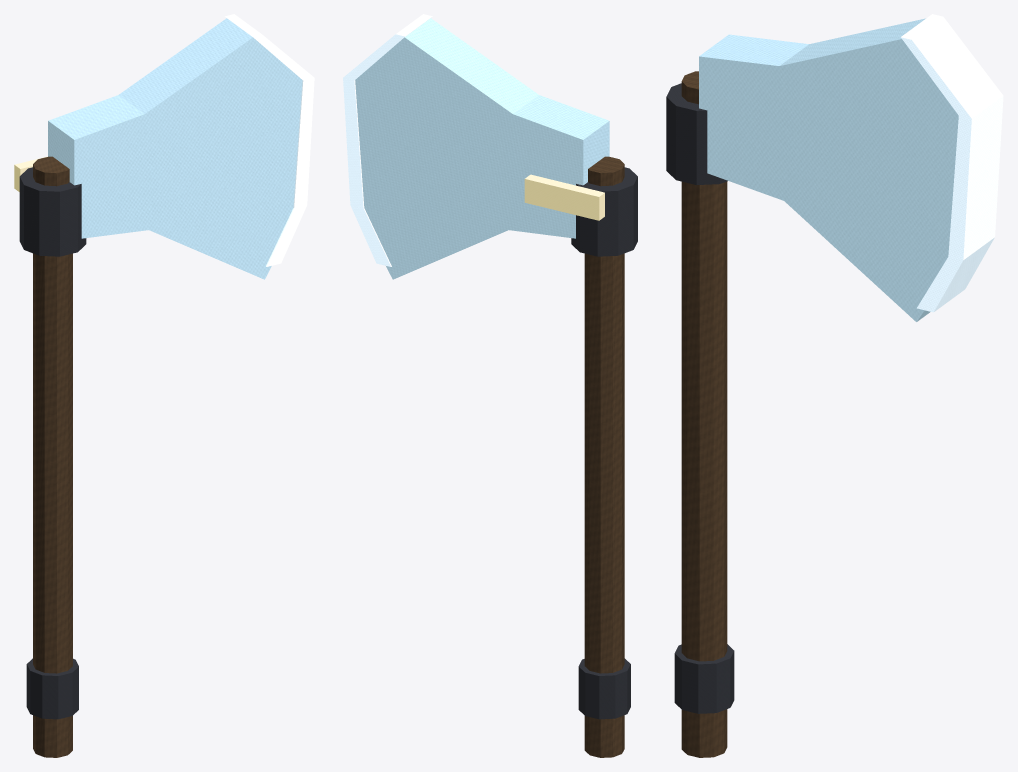
The model's file is crystal-weapon-axe.glb.
3 renders of one model, left to right at view 1: azimuth 30°, elevation 25°; view 2: azimuth 150°, elevation 25°; view 3: azimuth 330°, elevation 25°, orthographic. The views are drawn at different scales.
Parts seen in each view (by area): view 1: axe-head, haft, head-band, edge, lower-band; view 2: axe-head, haft, head-band, edge, lower-band, head-inlay; view 3: axe-head, haft, edge, head-band, lower-band.
Part boxes in pixels (x1,y1,x2,y2): axe-head: (48,18,302,279); haft: (33,156,72,757); head-band: (19,167,86,256); edge: (225,14,314,266); lower-band: (26,658,78,719); axe-head: (355,18,609,279); haft: (584,156,624,757); head-band: (571,167,637,256); edge: (343,14,432,266); lower-band: (578,658,630,719); head-inlay: (524,174,604,220); axe-head: (699,18,958,321); haft: (681,71,727,757); edge: (901,14,1003,312); head-band: (666,83,727,185); lower-band: (674,644,734,713).
Size of the model in its own units: 0.5016 by 1.17 by 0.1193.
Materials: 5 (5 with a texture image).
